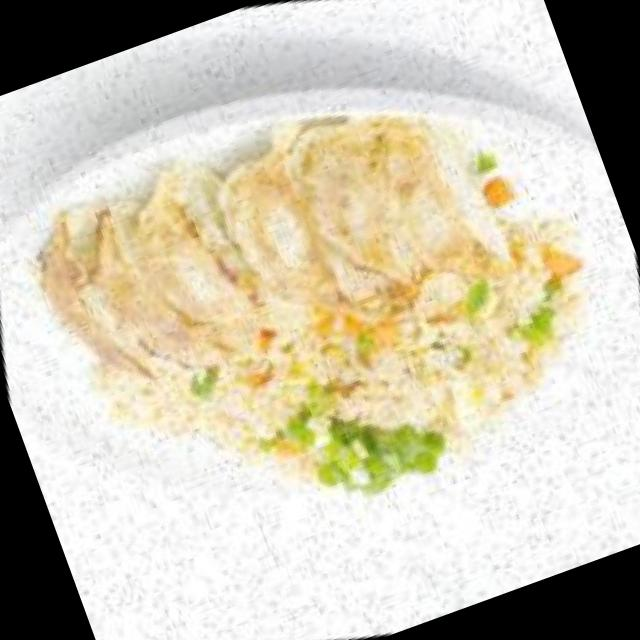fried_dumplings: (0, 0, 588, 516)
